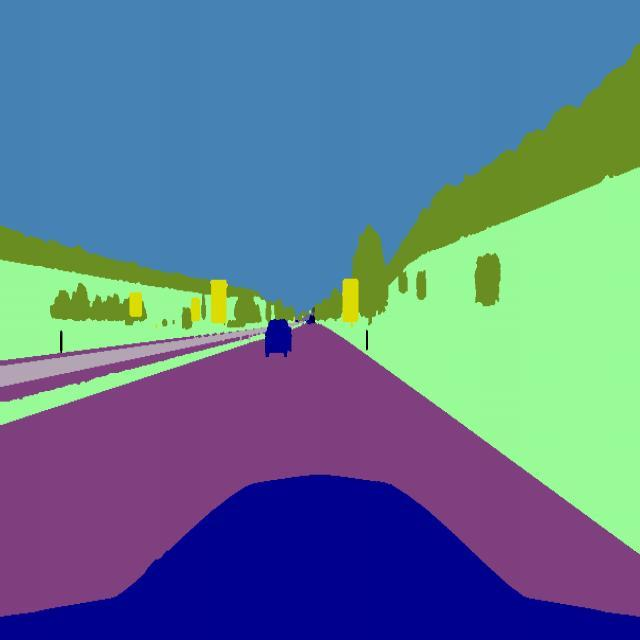safe: (260, 310, 296, 366)
